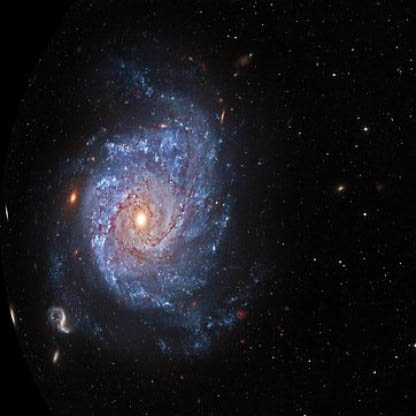NGC 1309: (44, 56, 265, 367)
